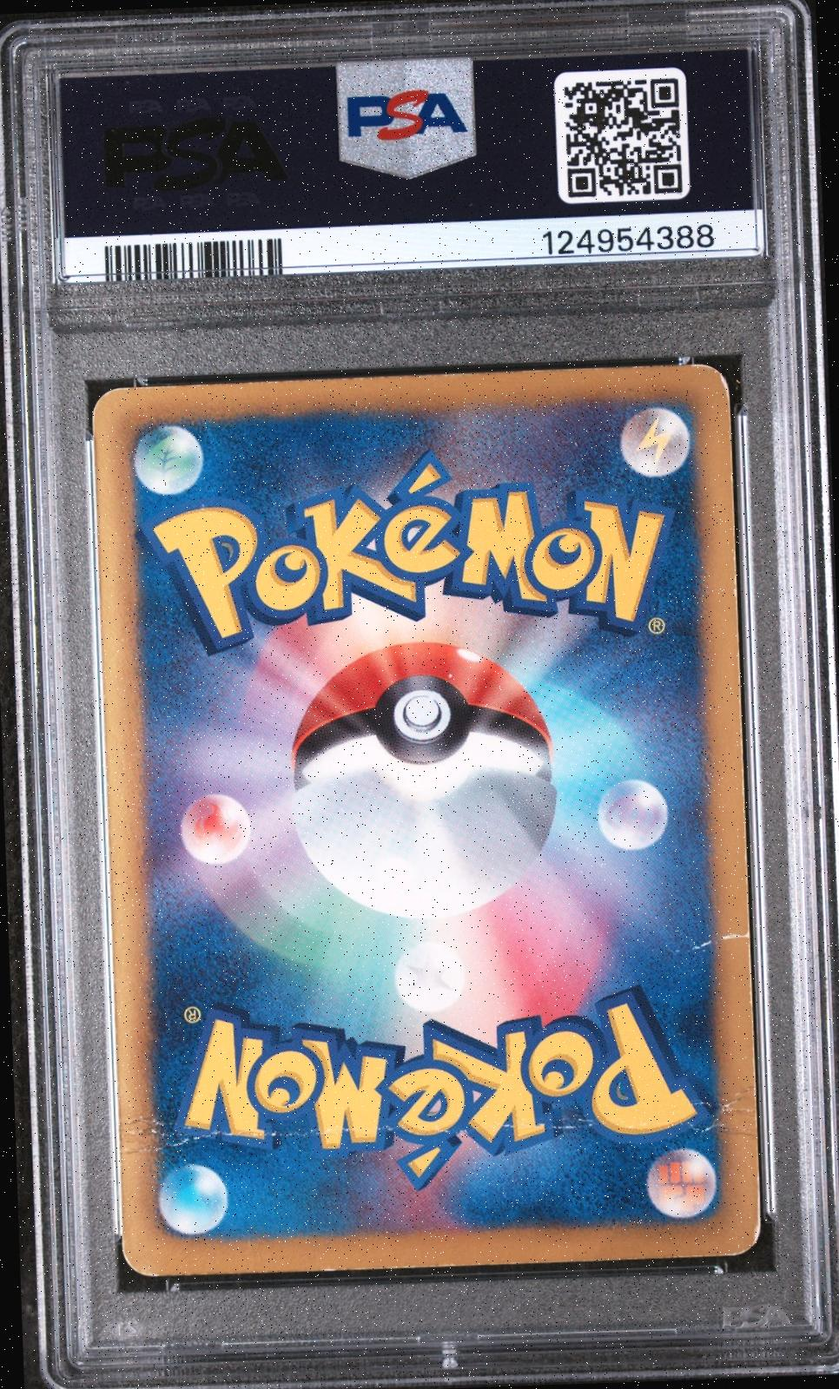card-2UtV: (91, 363, 761, 1277)
